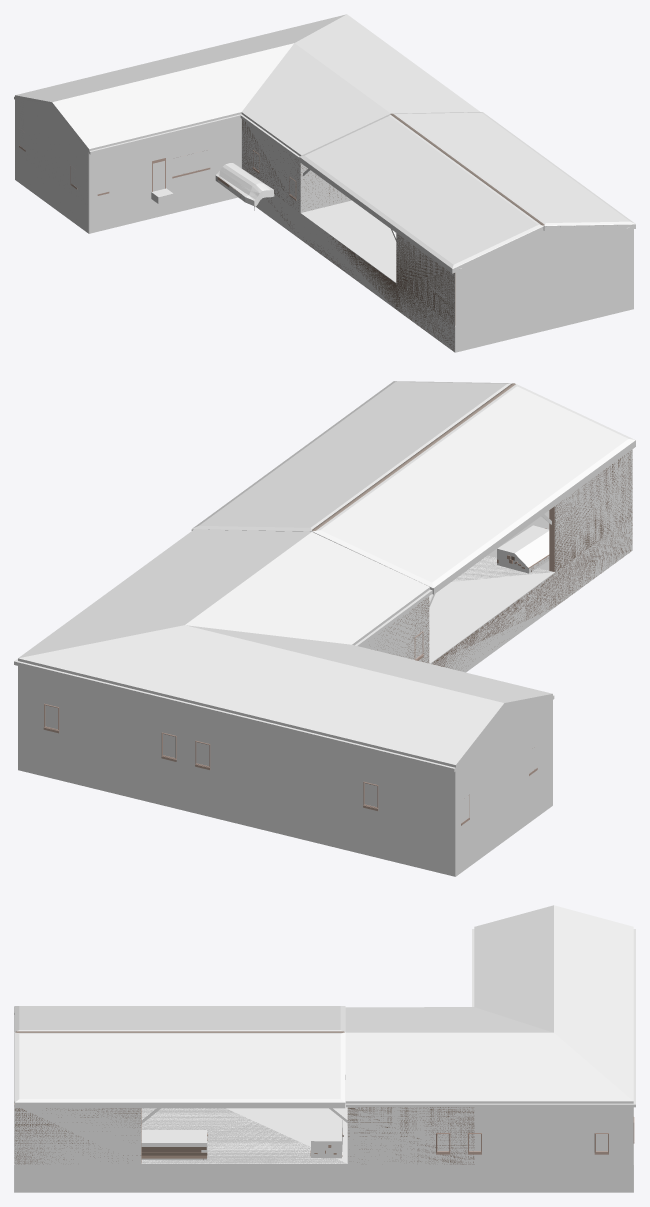
Rendered from sawmill_main.dae.
3 views of the same model, one above another, from view 1: azimuth 30°, elevation 25°; view 2: azimuth 150°, elevation 25°; view 3: azimuth 270°, elevation 25° (orthographic). The views are drawn at different scales.
Visible parts, largest first — view 1: sawmill_main_a500, Colmesh-1, sawmill_main_a300, sawmill_main_a150; view 2: sawmill_main_a500, Colmesh-1, sawmill_main_a300, sawmill_main_a150; view 3: sawmill_main_a500, Colmesh-1, sawmill_main_a300, sawmill_main_a150.
Part boxes in pixels (left/top/right/bottom): sawmill_main_a500: left=14, top=14, right=635, bottom=350; Colmesh-1: left=15, top=42, right=635, bottom=352; sawmill_main_a300: left=14, top=14, right=595, bottom=275; sawmill_main_a150: left=242, top=119, right=454, bottom=350; sawmill_main_a500: left=14, top=381, right=635, bottom=875; Colmesh-1: left=18, top=383, right=635, bottom=876; sawmill_main_a300: left=19, top=381, right=635, bottom=823; sawmill_main_a150: left=377, top=450, right=632, bottom=668; sawmill_main_a500: left=14, top=905, right=635, bottom=1192; Colmesh-1: left=14, top=911, right=633, bottom=1192; sawmill_main_a300: left=14, top=906, right=635, bottom=1152; sawmill_main_a150: left=14, top=1107, right=474, bottom=1164.
Bounding box in the file's own units: 26.22 × 39.21 × 7.92.
